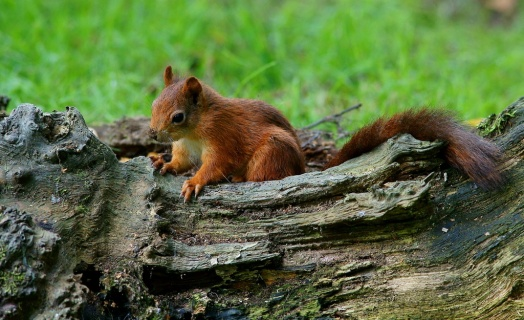Squirrel: (118, 63, 506, 205)
